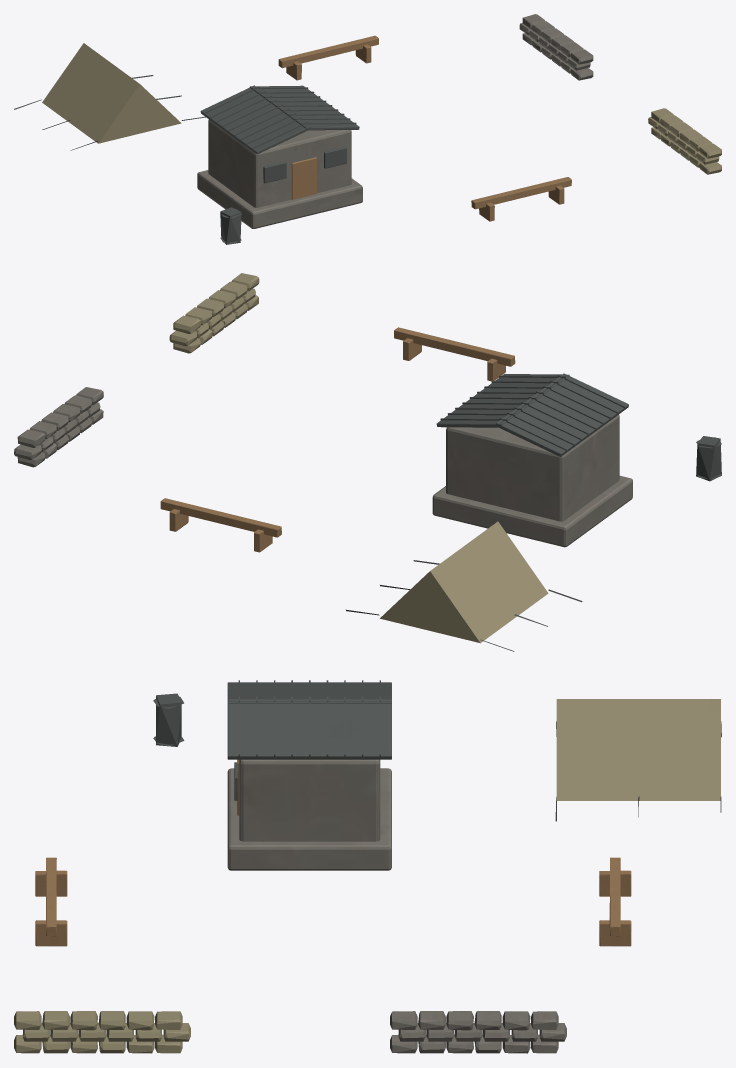
The model's file is hollow-lod2.glb.
The picture shows the model from 3 angles, top to bottom: view 1: azimuth 30°, elevation 25°; view 2: azimuth 150°, elevation 25°; view 3: azimuth 270°, elevation 25°; orthographic projection. The views are drawn at different scales.
Parts seen in each view (by area): view 1: hollow_hut_0.001, hollow_small_tent_5.001, hollow_breastwork_4.001, hollow_sandbags_3.001, hollow_barrier_1.001, hollow_barrier_2.001, hollow_drum_6.001; view 2: hollow_hut_0.001, hollow_small_tent_5.001, hollow_sandbags_3.001, hollow_breastwork_4.001, hollow_barrier_2.001, hollow_barrier_1.001, hollow_drum_6.001; view 3: hollow_hut_0.001, hollow_small_tent_5.001, hollow_breastwork_4.001, hollow_sandbags_3.001, hollow_barrier_2.001, hollow_barrier_1.001, hollow_drum_6.001.
Boxes of the visible parts, left/top/right/bottom form: hollow_hut_0.001: left=197, top=85, right=362, bottom=228; hollow_small_tent_5.001: left=14, top=43, right=205, bottom=150; hollow_breastwork_4.001: left=519, top=14, right=593, bottom=80; hollow_sandbags_3.001: left=648, top=108, right=721, bottom=174; hollow_barrier_1.001: left=471, top=177, right=571, bottom=221; hollow_barrier_2.001: left=278, top=35, right=378, bottom=80; hollow_drum_6.001: left=220, top=207, right=241, bottom=244; hollow_hut_0.001: left=432, top=373, right=632, bottom=547; hollow_small_tent_5.001: left=346, top=521, right=582, bottom=651; hollow_sandbags_3.001: left=169, top=273, right=259, bottom=353; hollow_breastwork_4.001: left=14, top=387, right=103, bottom=467; hollow_barrier_2.001: left=160, top=498, right=281, bottom=552; hollow_barrier_1.001: left=394, top=327, right=515, bottom=381; hollow_drum_6.001: left=696, top=436, right=721, bottom=481; hollow_hut_0.001: left=227, top=680, right=391, bottom=870; hollow_small_tent_5.001: left=555, top=699, right=721, bottom=821; hollow_breastwork_4.001: left=390, top=1011, right=566, bottom=1053; hollow_sandbags_3.001: left=14, top=1011, right=190, bottom=1053; hollow_barrier_2.001: left=599, top=857, right=631, bottom=946; hollow_barrier_1.001: left=35, top=857, right=67, bottom=946; hollow_drum_6.001: left=153, top=693, right=184, bottom=746.
Bounding box in the file's own units: 33.6 × 6.27 × 30.13.
Materials: 4 (4 with a texture image).
